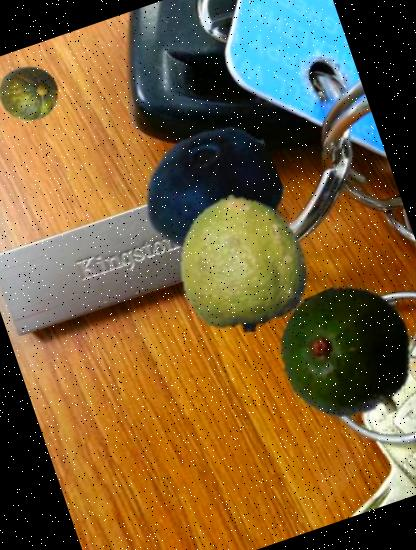Avocado: (261, 266, 416, 443)
Blueberry: (125, 105, 299, 280)
Limes: (156, 174, 333, 352)
Melon: (0, 52, 70, 133)
